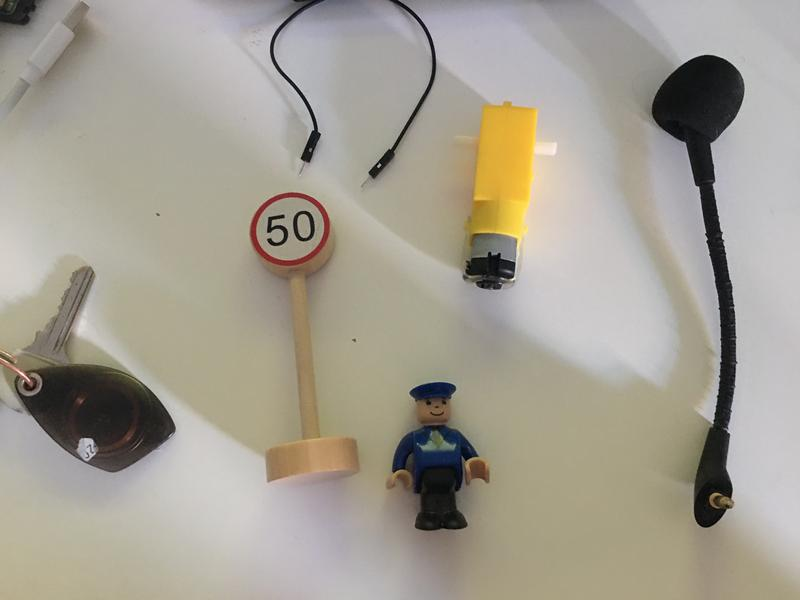Traffic_Sign_50: (249, 195, 328, 268)
person: (385, 380, 493, 535)
